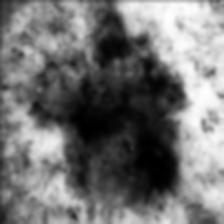Potentially Malignant Skin Tumors: (27, 18, 201, 216)
